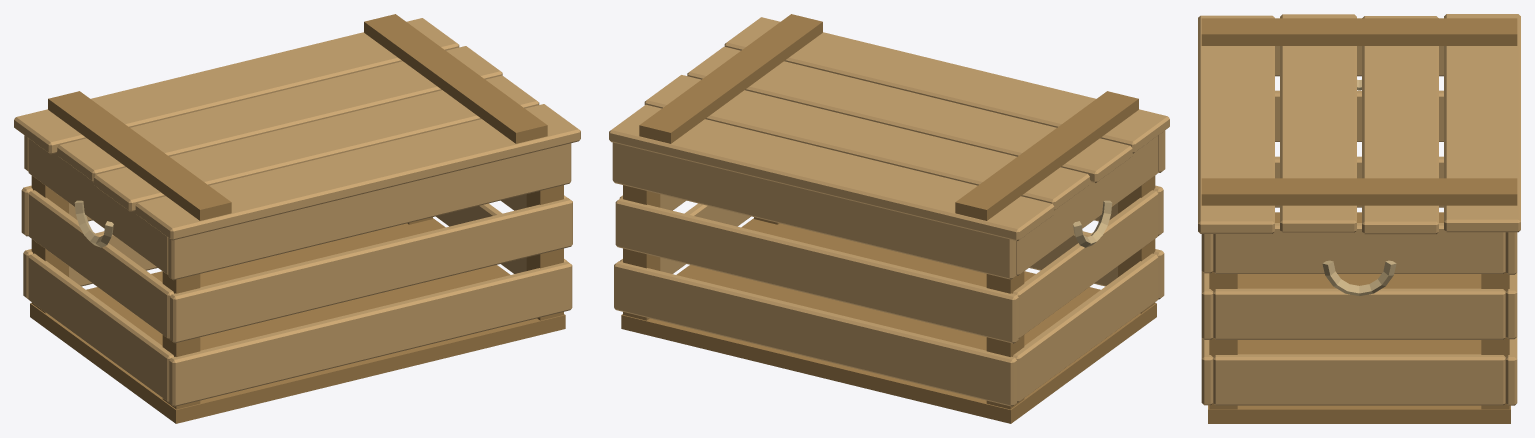
Rendered from fish-crate.glb.
3 renders of one model, left to right at view 1: azimuth 30°, elevation 25°; view 2: azimuth 150°, elevation 25°; view 3: azimuth 270°, elevation 25°, orthographic. The views are drawn at different scales.
Parts seen in each view (by area): view 1: fish-crate; view 2: fish-crate; view 3: fish-crate.
Boxes of the visible parts, bbox=[...] form: fish-crate: bbox=[14, 14, 580, 423]; fish-crate: bbox=[609, 14, 1169, 423]; fish-crate: bbox=[1198, 14, 1520, 423].
Size of the model in its own units: 0.79 by 0.383 by 0.512.
